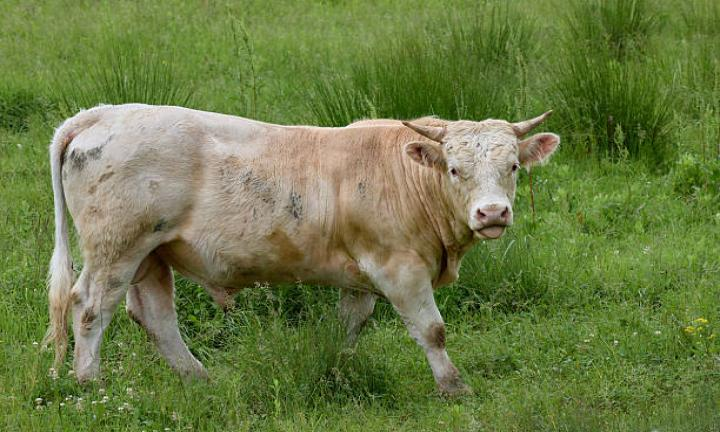Charolais: (48, 104, 558, 392)
